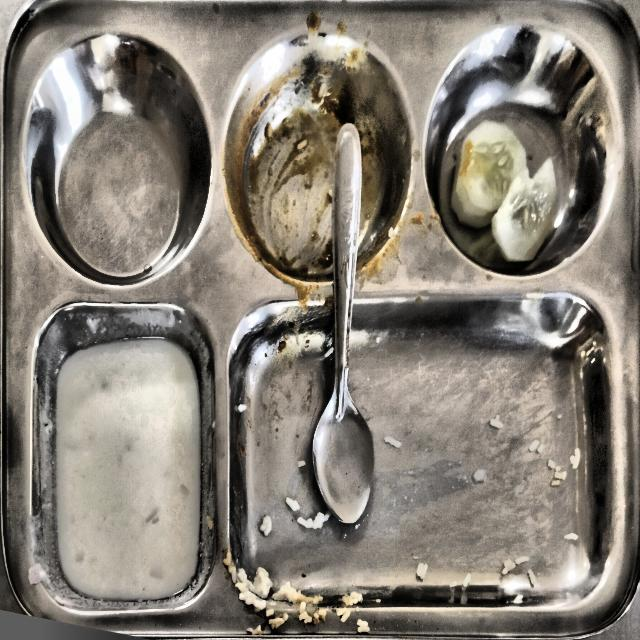Salad-Mix: (424, 48, 594, 264)
